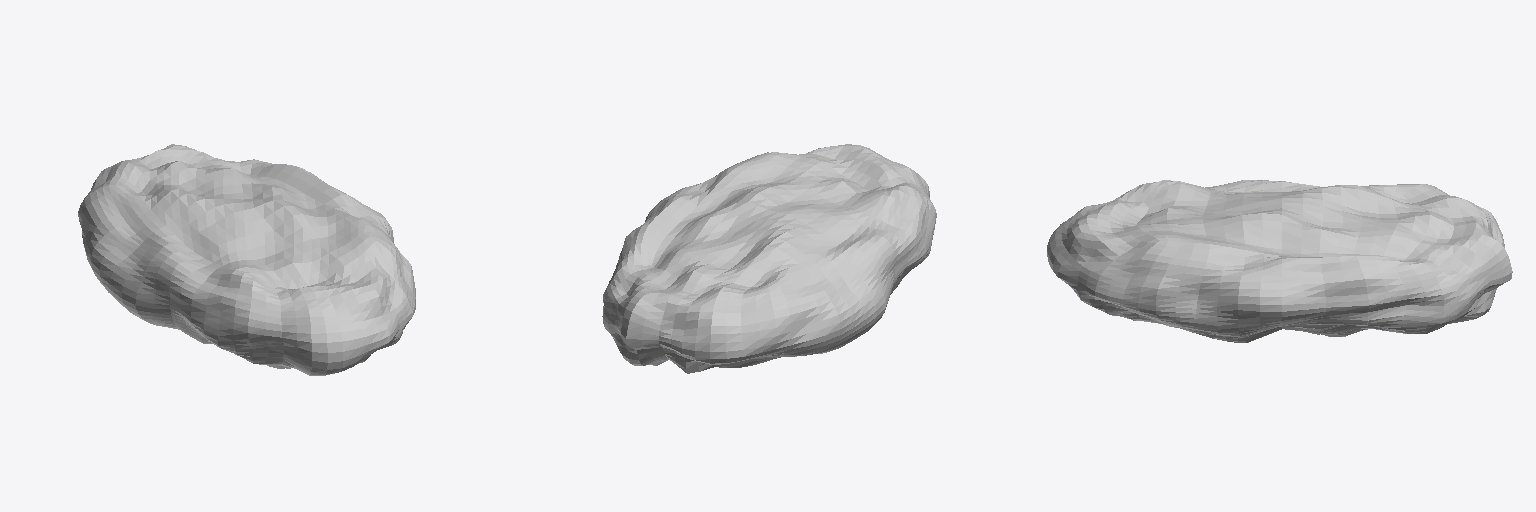
The model's file is platformCloud.obj.
3 renders of one model, left to right at view 1: azimuth 30°, elevation 25°; view 2: azimuth 150°, elevation 25°; view 3: azimuth 270°, elevation 25°, orthographic.
Parts seen in each view (by area): view 1: pPlane2; view 2: pPlane2; view 3: pPlane2.
Part boxes in pixels (bbox=[...]): pPlane2: bbox=[78, 144, 415, 375]; pPlane2: bbox=[602, 144, 936, 373]; pPlane2: bbox=[1047, 180, 1512, 342].
Size of the model in its own units: 1.11 by 0.4536 by 1.84.